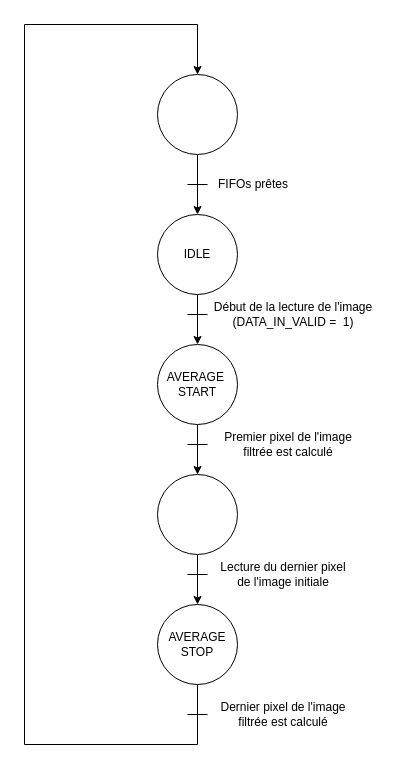
Some shapes in this 401 by 770 pixel diagram are drawn without their labels. Here are the shapes that lost their labels. From the top down, the centre of each, then its label:
At [197,114]: "INIT".
At [197,514]: "AVERAGE PROCESSING".
